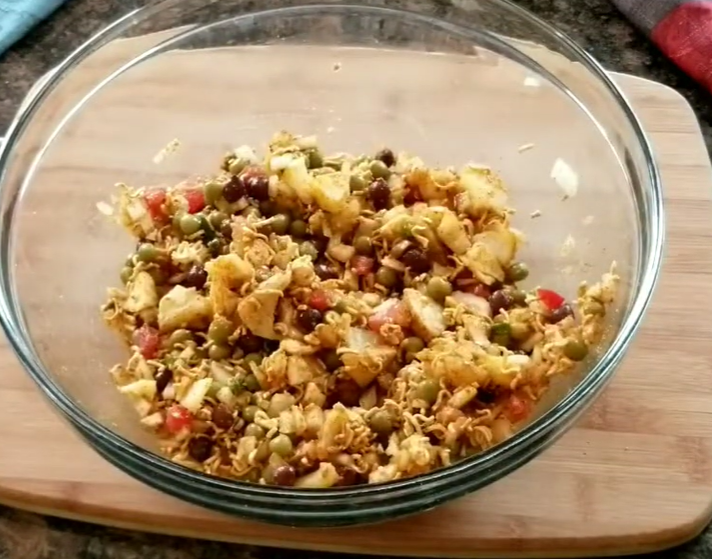chatpate: (95, 134, 551, 456)
